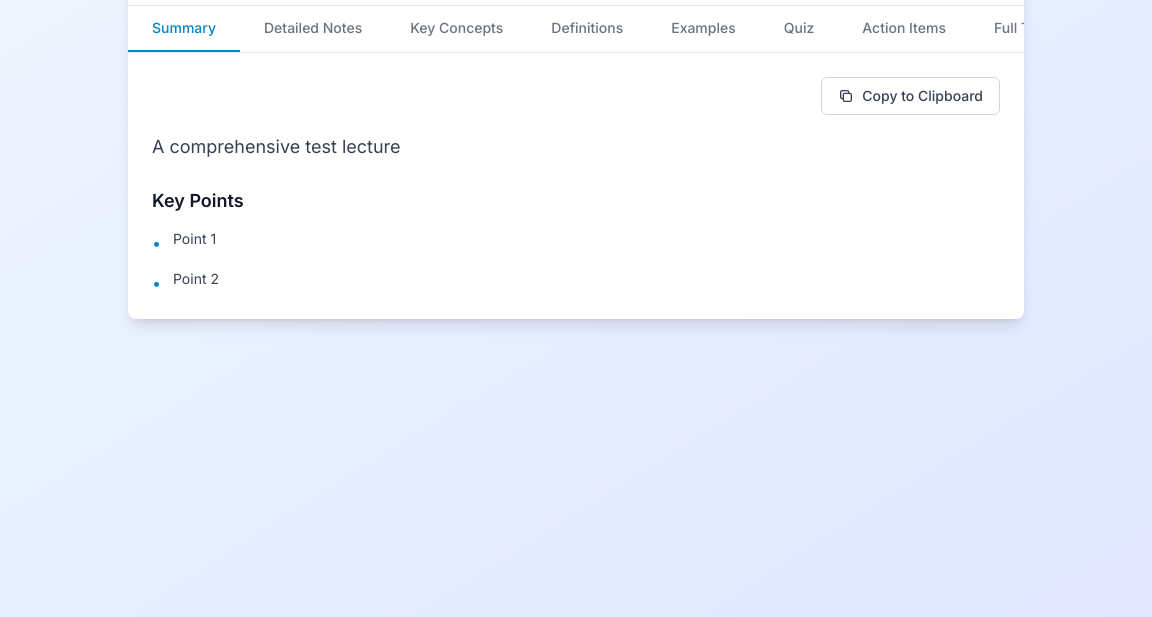
Test case: Quiz Feature › Answer Selection › should enable submit button when all questions are answered
Click the button "Quiz": (799, 29) [760,6,838,52]
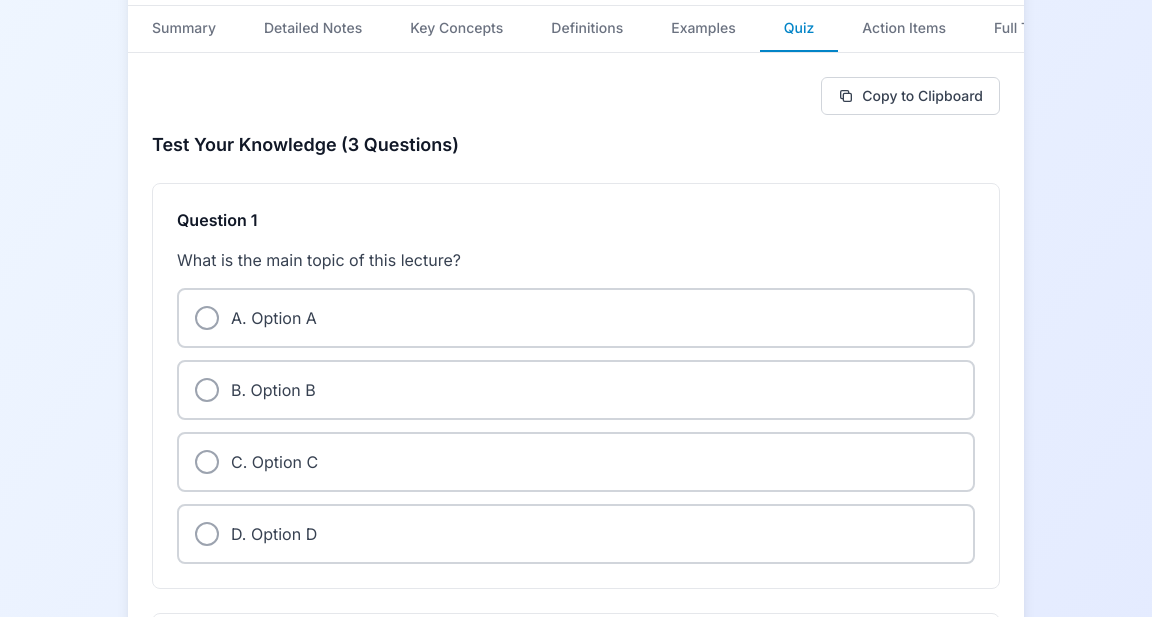
Check: the number of headings "Question 1" is 3
Click the button "A. Option A": (284, 318) [177,288,975,348]
(page scrolled)
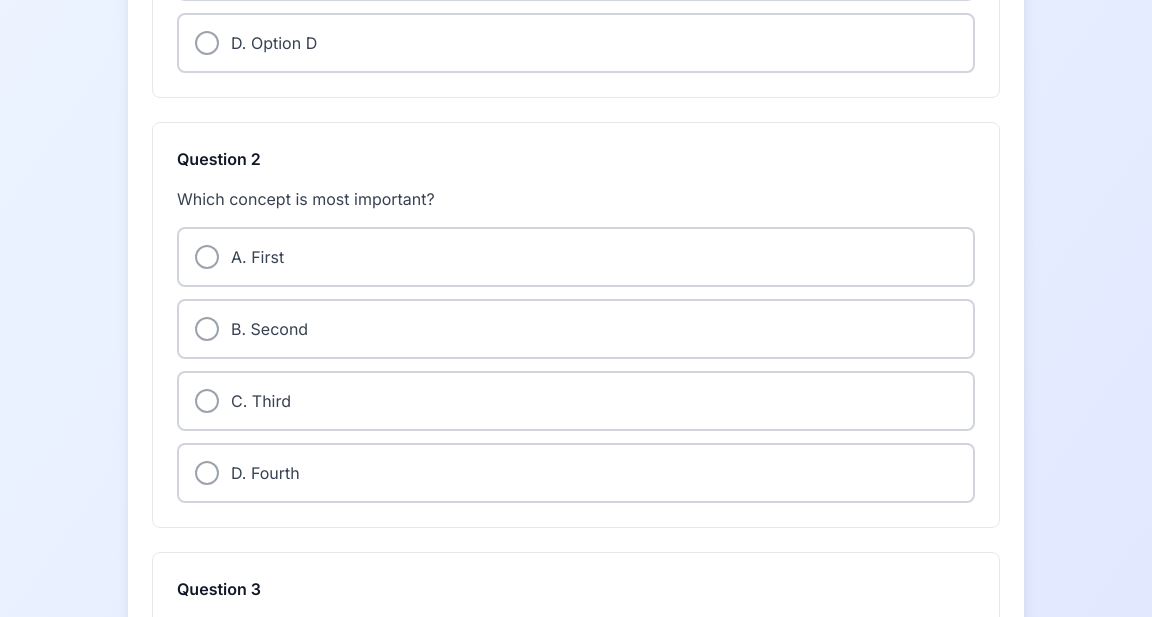
Click the button "A. First": (268, 257) [177,227,975,287]
(page scrolled)
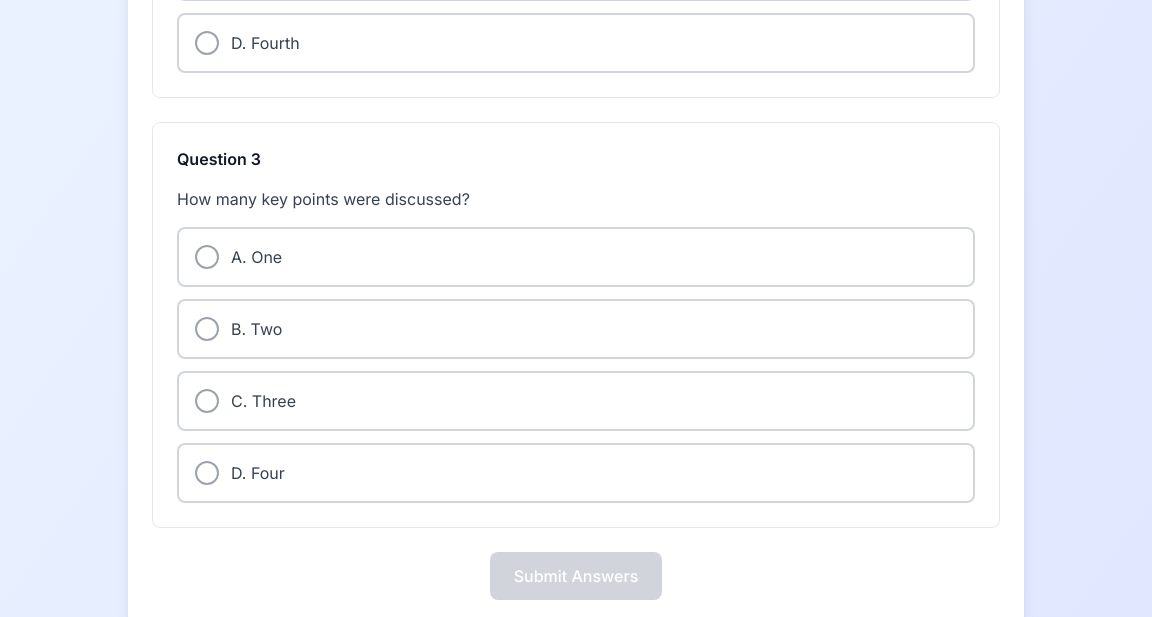
Click the button "A. One": (267, 257) [177,227,975,287]
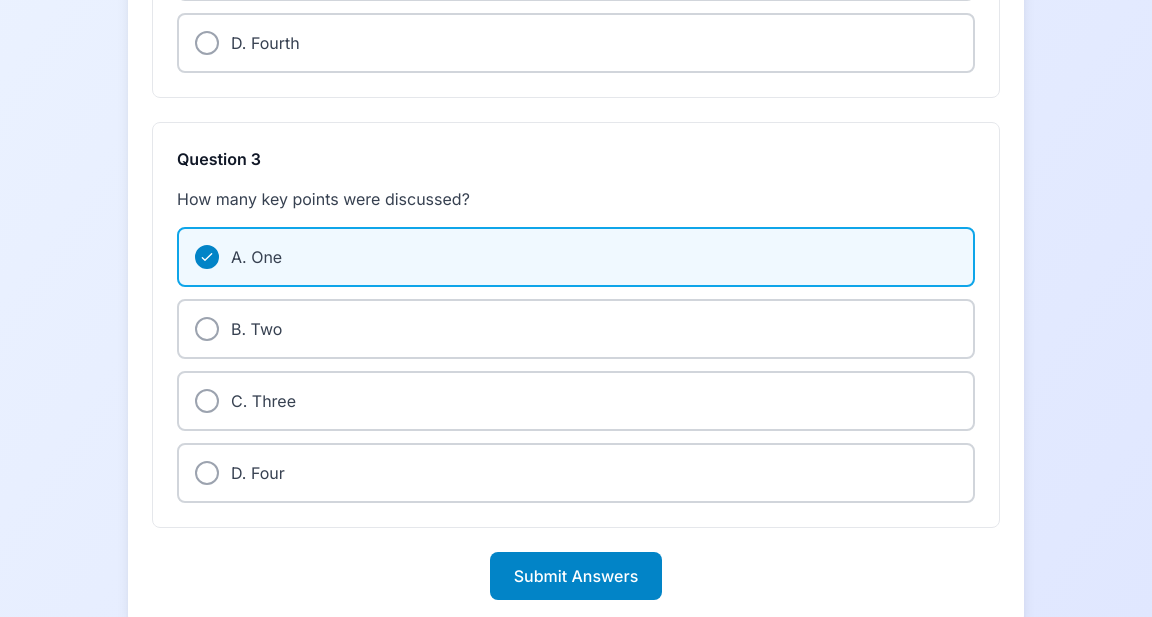
Check: the button "Submit Answers" is enabled, box [490,552,662,600]
